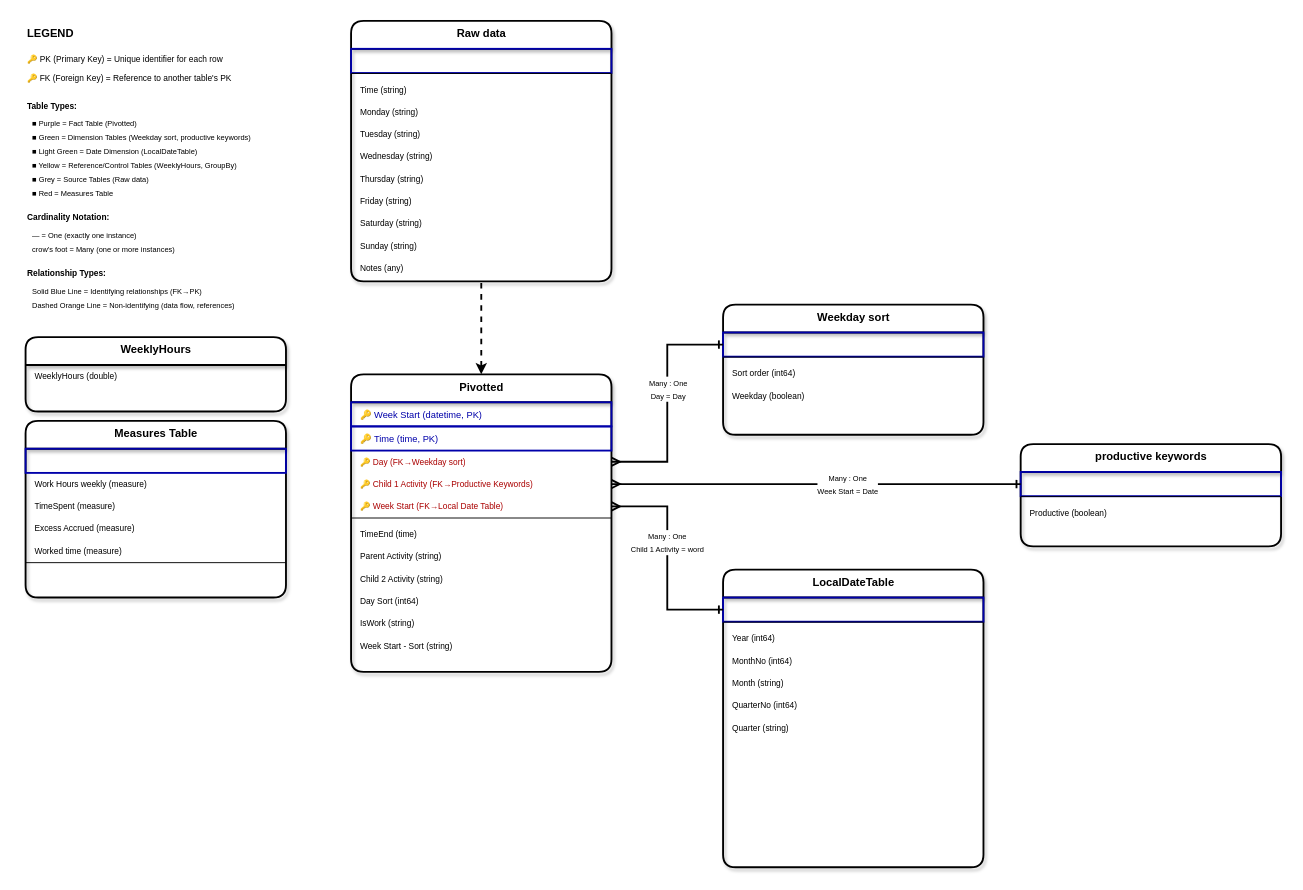
The diagram is 1303 pixels wide and 890 high, and some of its shapes have lost their labels. Here are the shapes that lost their labels. From the top down, the centre of each, then its label:
the point at 481,60: 🔑 Source.Name (string, PK)
the point at 853,344: 🔑 Day (string, PK)
the point at 155,460: 🔑 [Measures Table]
the point at 1150,484: 🔑 word (string, PK)
the point at 853,609: 🔑 Date (date, PK)
